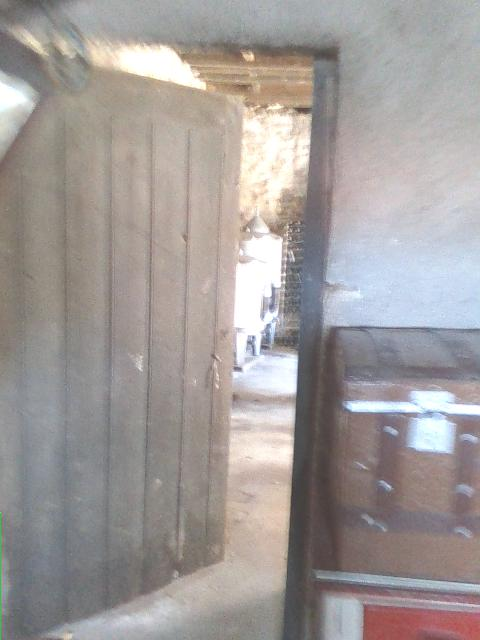semi_door: (1, 27, 340, 639)
